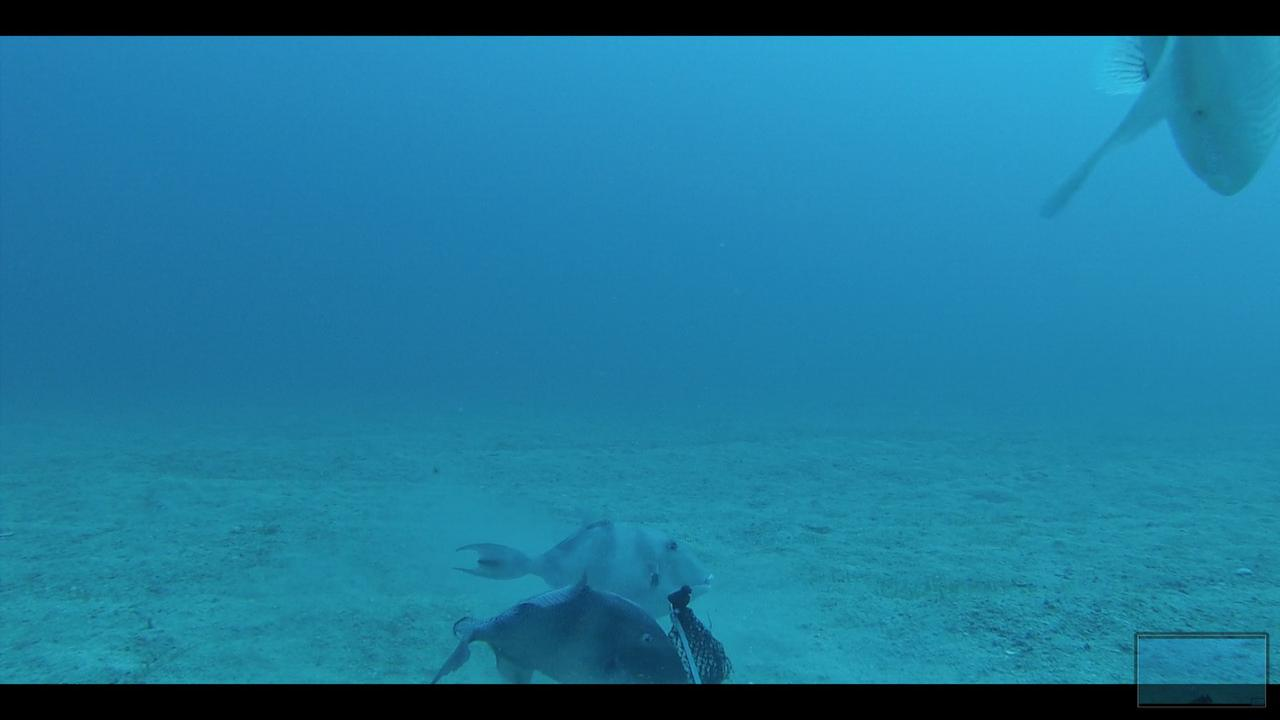balistes: (1038, 37, 1278, 226), (448, 500, 718, 619), (423, 574, 687, 682)
